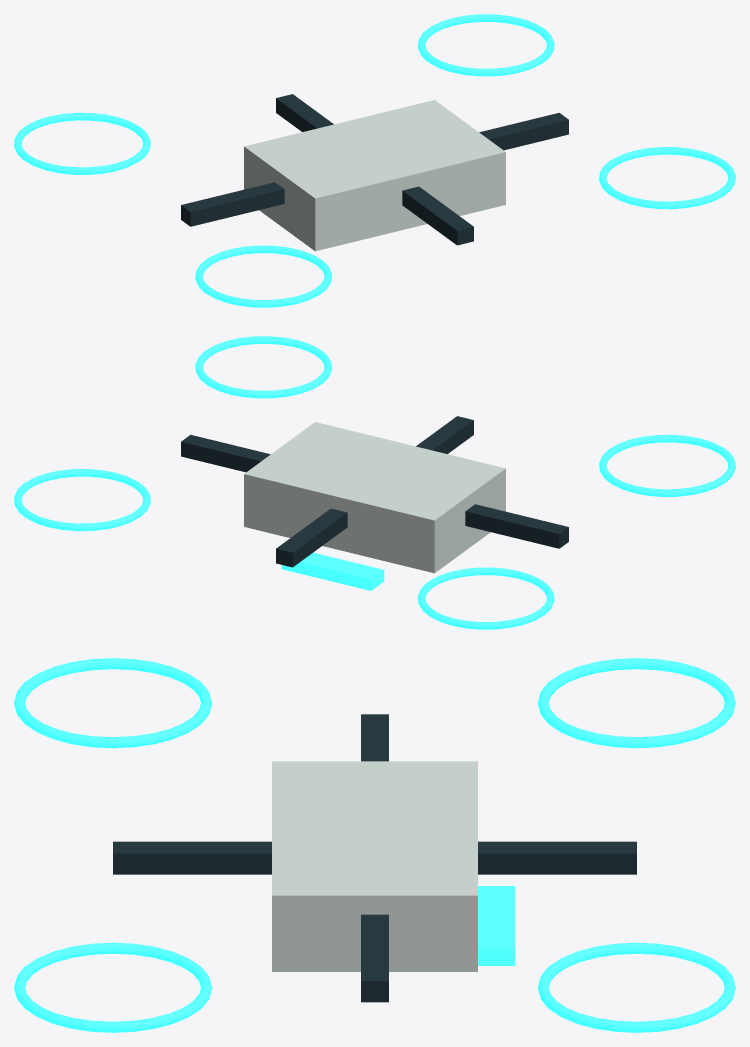
Rendered from inspection-drone.glb.
The picture shows the model from 3 angles, top to bottom: view 1: azimuth 30°, elevation 25°; view 2: azimuth 150°, elevation 25°; view 3: azimuth 270°, elevation 25°; orthographic projection. The views are drawn at different scales.
Visible parts, largest first — view 1: rj-inspection-drone-prop-body, rj-inspection-drone-prop-arm-x, rj-inspection-drone-prop-arm-z, rj-inspection-drone-prop-rotor-2, rj-inspection-drone-prop-rotor-3, rj-inspection-drone-prop-rotor-1, rj-inspection-drone-prop-rotor-4; view 2: rj-inspection-drone-prop-body, rj-inspection-drone-prop-arm-x, rj-inspection-drone-prop-arm-z, rj-inspection-drone-prop-rotor-1, rj-inspection-drone-prop-rotor-4, rj-inspection-drone-prop-rotor-2, rj-inspection-drone-prop-rotor-3, rj-inspection-drone-prop-scan-light; view 3: rj-inspection-drone-prop-body, rj-inspection-drone-prop-arm-z, rj-inspection-drone-prop-rotor-1, rj-inspection-drone-prop-rotor-2, rj-inspection-drone-prop-rotor-3, rj-inspection-drone-prop-rotor-4, rj-inspection-drone-prop-arm-x, rj-inspection-drone-prop-scan-light.
Boxes of the visible parts, x1=… form: rj-inspection-drone-prop-body: x1=244, y1=100, x2=505, y2=251; rj-inspection-drone-prop-arm-x: x1=181, y1=112, x2=568, y2=226; rj-inspection-drone-prop-arm-z: x1=276, y1=94, x2=473, y2=245; rj-inspection-drone-prop-rotor-2: x1=417, y1=14, x2=554, y2=76; rj-inspection-drone-prop-rotor-3: x1=195, y1=245, x2=332, y2=307; rj-inspection-drone-prop-rotor-1: x1=14, y1=112, x2=150, y2=174; rj-inspection-drone-prop-rotor-4: x1=599, y1=147, x2=735, y2=209; rj-inspection-drone-prop-body: x1=244, y1=422, x2=505, y2=573; rj-inspection-drone-prop-arm-x: x1=181, y1=434, x2=568, y2=548; rj-inspection-drone-prop-arm-z: x1=276, y1=416, x2=473, y2=567; rj-inspection-drone-prop-rotor-1: x1=417, y1=567, x2=554, y2=629; rj-inspection-drone-prop-rotor-4: x1=195, y1=336, x2=332, y2=398; rj-inspection-drone-prop-rotor-2: x1=14, y1=469, x2=150, y2=531; rj-inspection-drone-prop-rotor-3: x1=599, y1=434, x2=735, y2=496; rj-inspection-drone-prop-scan-light: x1=281, y1=552, x2=384, y2=590; rj-inspection-drone-prop-body: x1=272, y1=761, x2=477, y2=971; rj-inspection-drone-prop-arm-z: x1=113, y1=841, x2=636, y2=874; rj-inspection-drone-prop-rotor-1: x1=537, y1=658, x2=735, y2=748; rj-inspection-drone-prop-rotor-2: x1=537, y1=942, x2=735, y2=1032; rj-inspection-drone-prop-rotor-3: x1=14, y1=658, x2=212, y2=748; rj-inspection-drone-prop-rotor-4: x1=14, y1=942, x2=212, y2=1032; rj-inspection-drone-prop-arm-x: x1=361, y1=714, x2=388, y2=1002; rj-inspection-drone-prop-scan-light: x1=478, y1=886, x2=515, y2=965.
Bounding box in the file's own units: 1.86 × 0.25 × 1.54.
